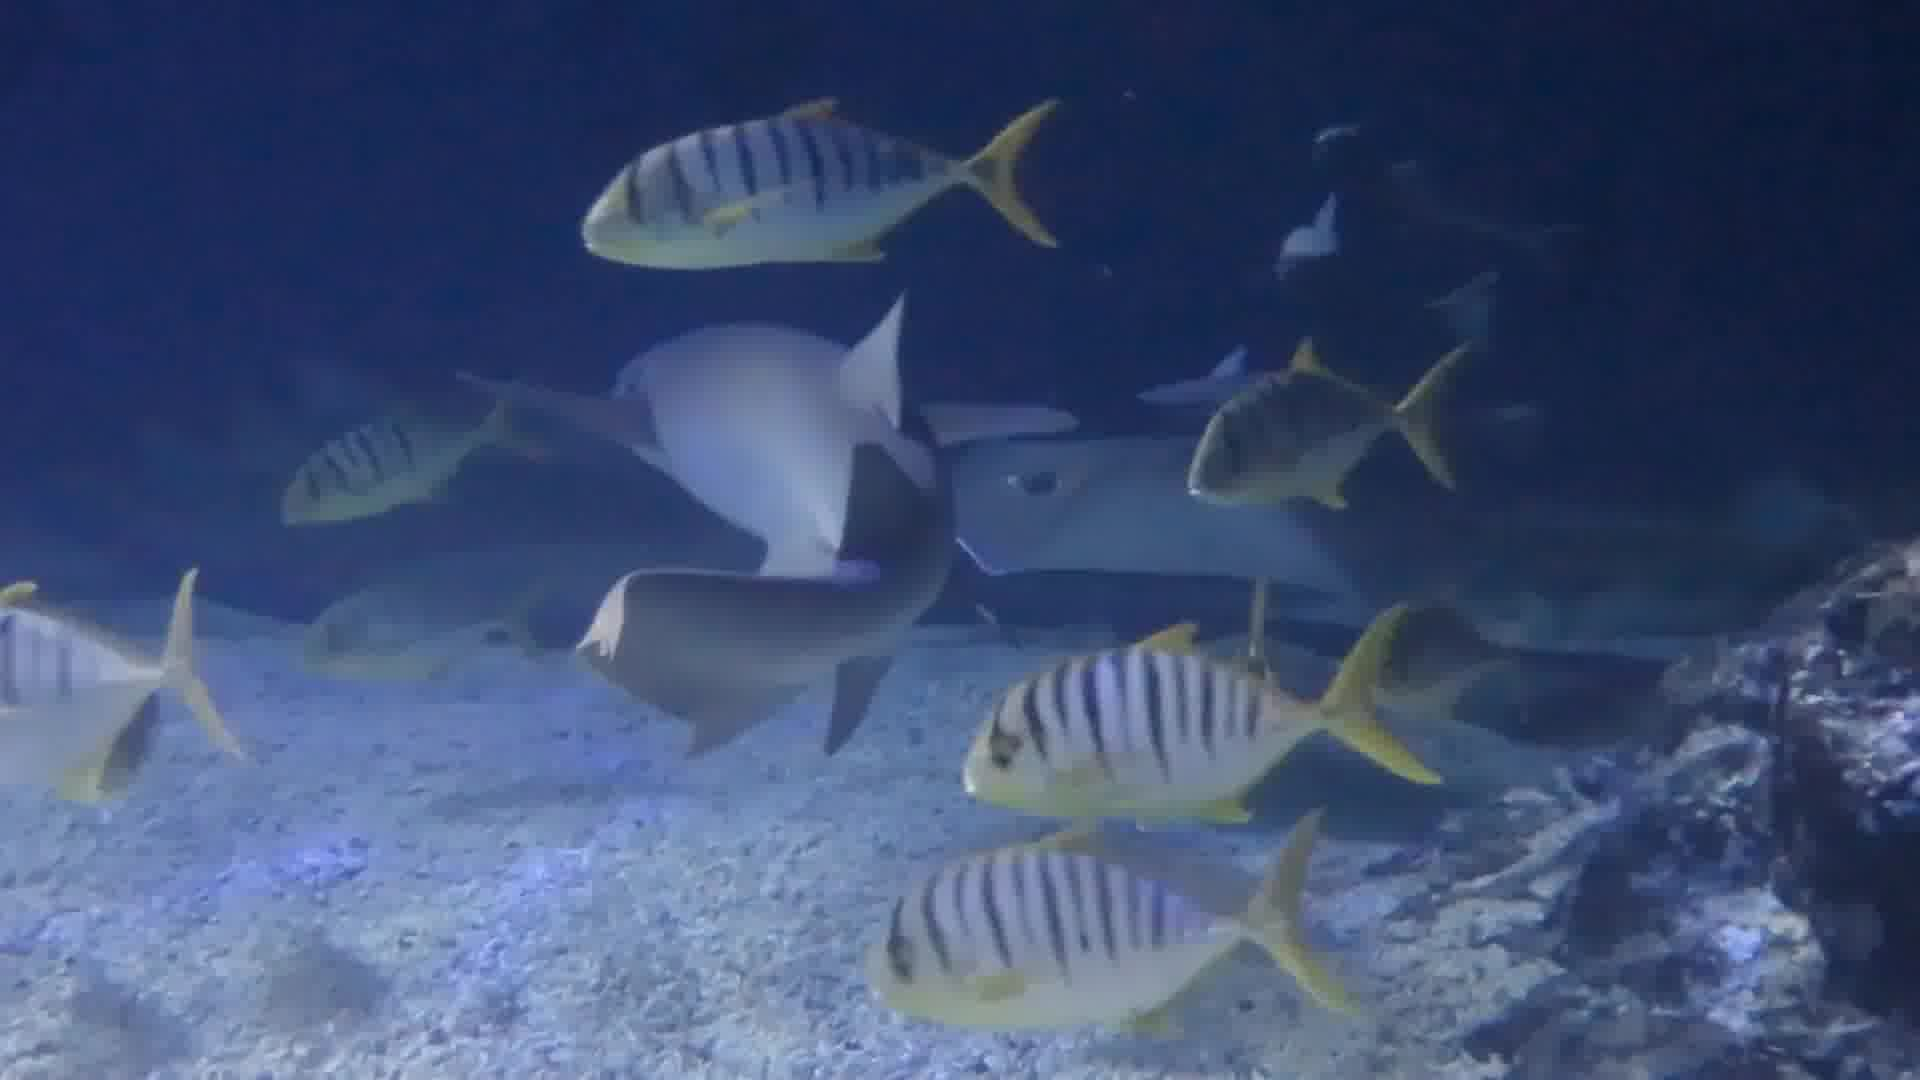Nebrius ferrugineus: (562, 316, 965, 698)
